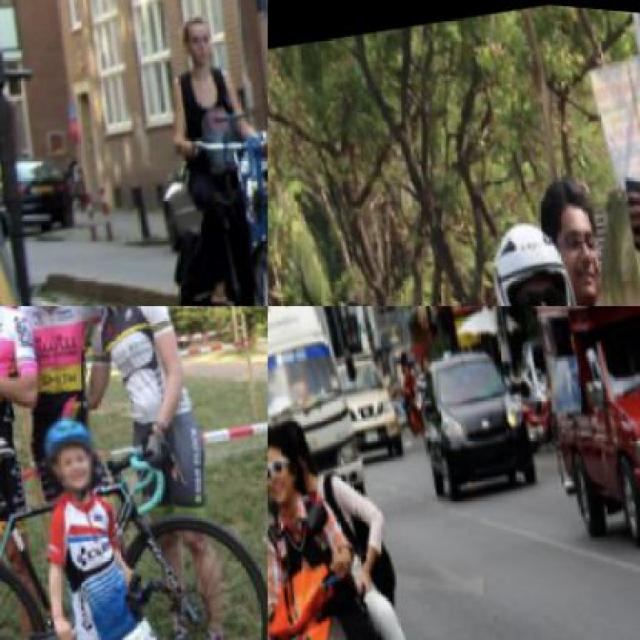With Helmet: (476, 198, 606, 304), (35, 396, 117, 495)
Without Helmet: (522, 158, 624, 304), (268, 403, 315, 515), (171, 0, 226, 71)
